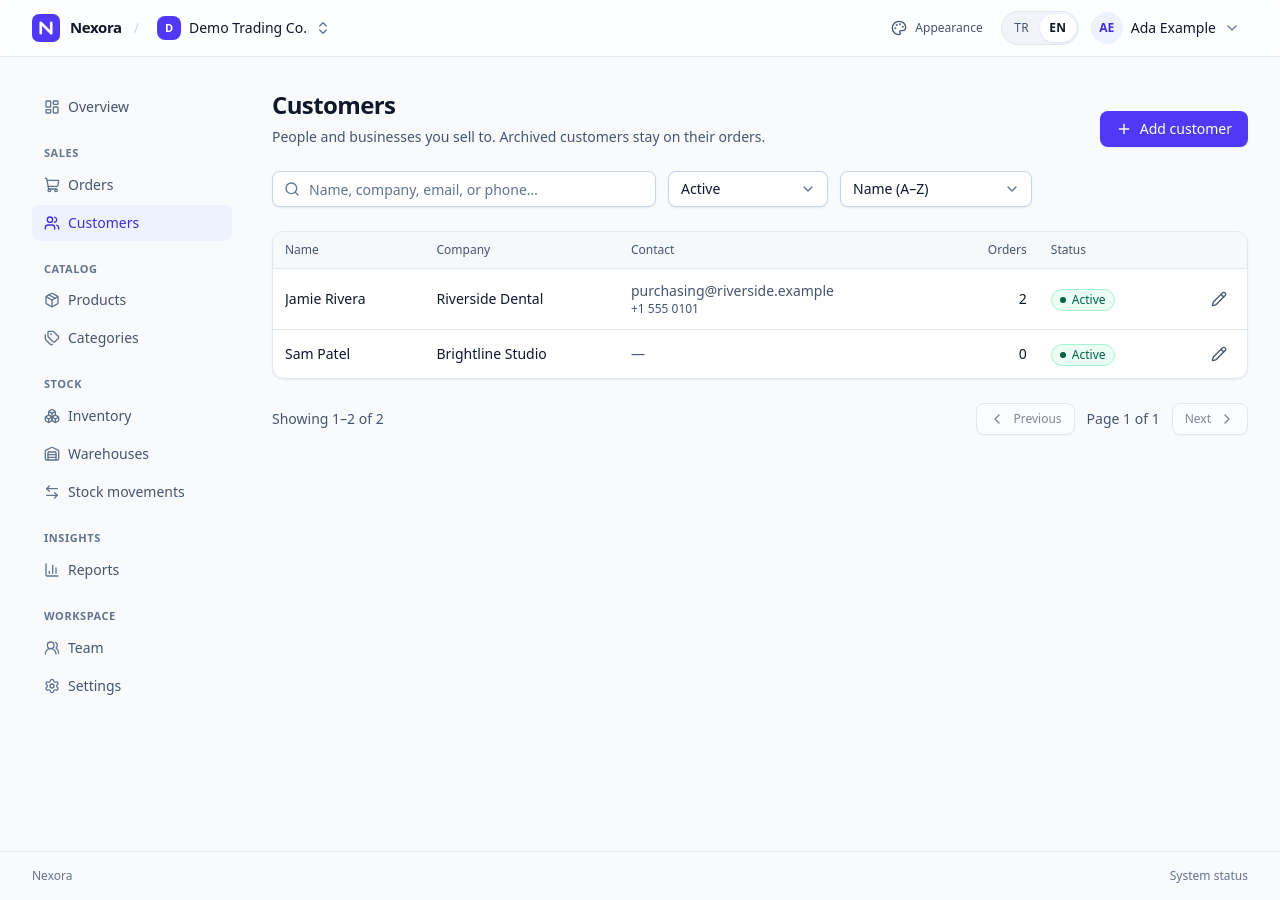
CustomersPage › edits only the changed fields
This screenshot has width=1280, height=900.
Expected: the heading "Customers" is shown, [272,88,395,121]
Click the button named "Edit Jamie Rivera" at (1219, 299), box [1203,283,1235,315]
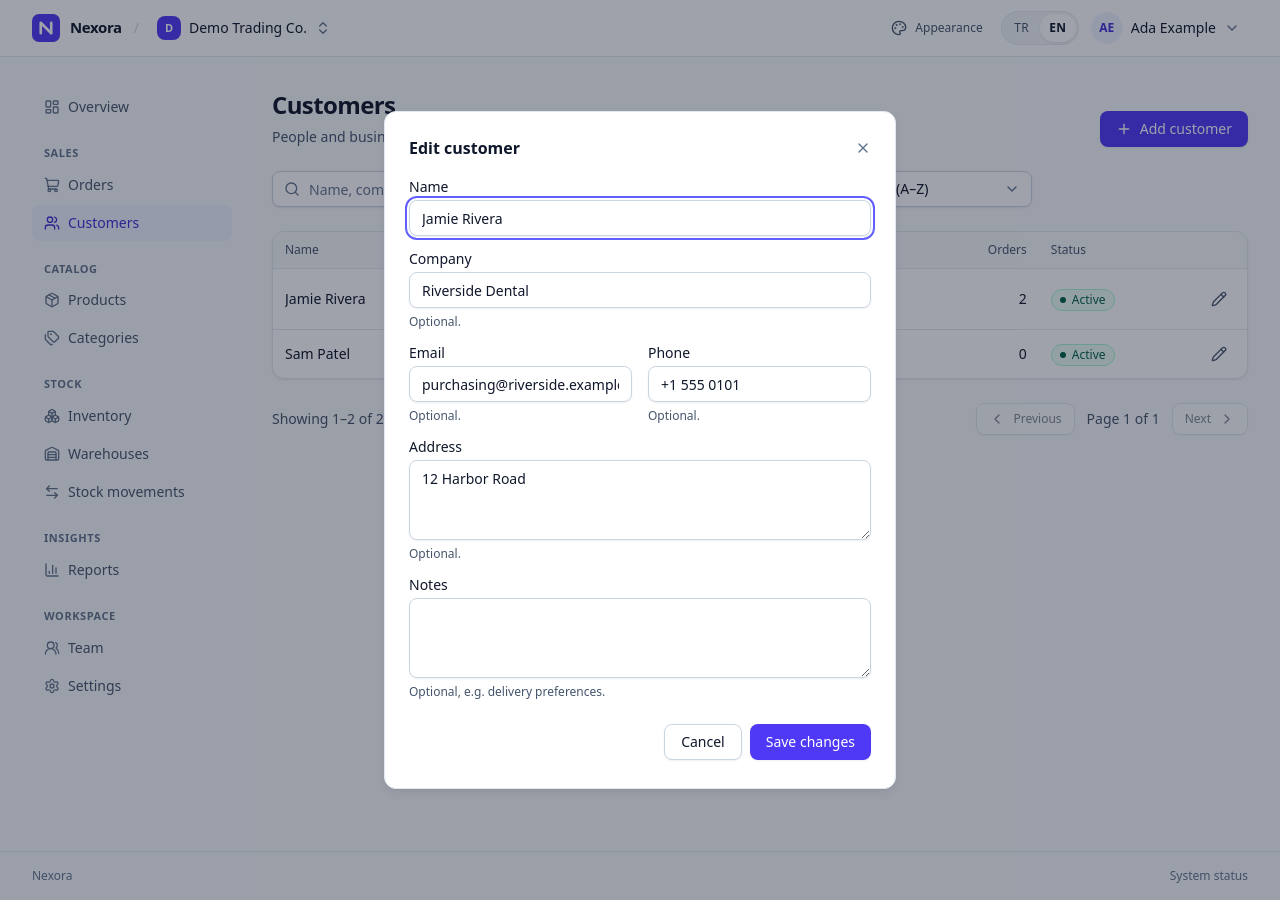
Replace the text in the field labelled "Phone" with "+1 555 0199" at (760, 384), box [648,366,871,402]
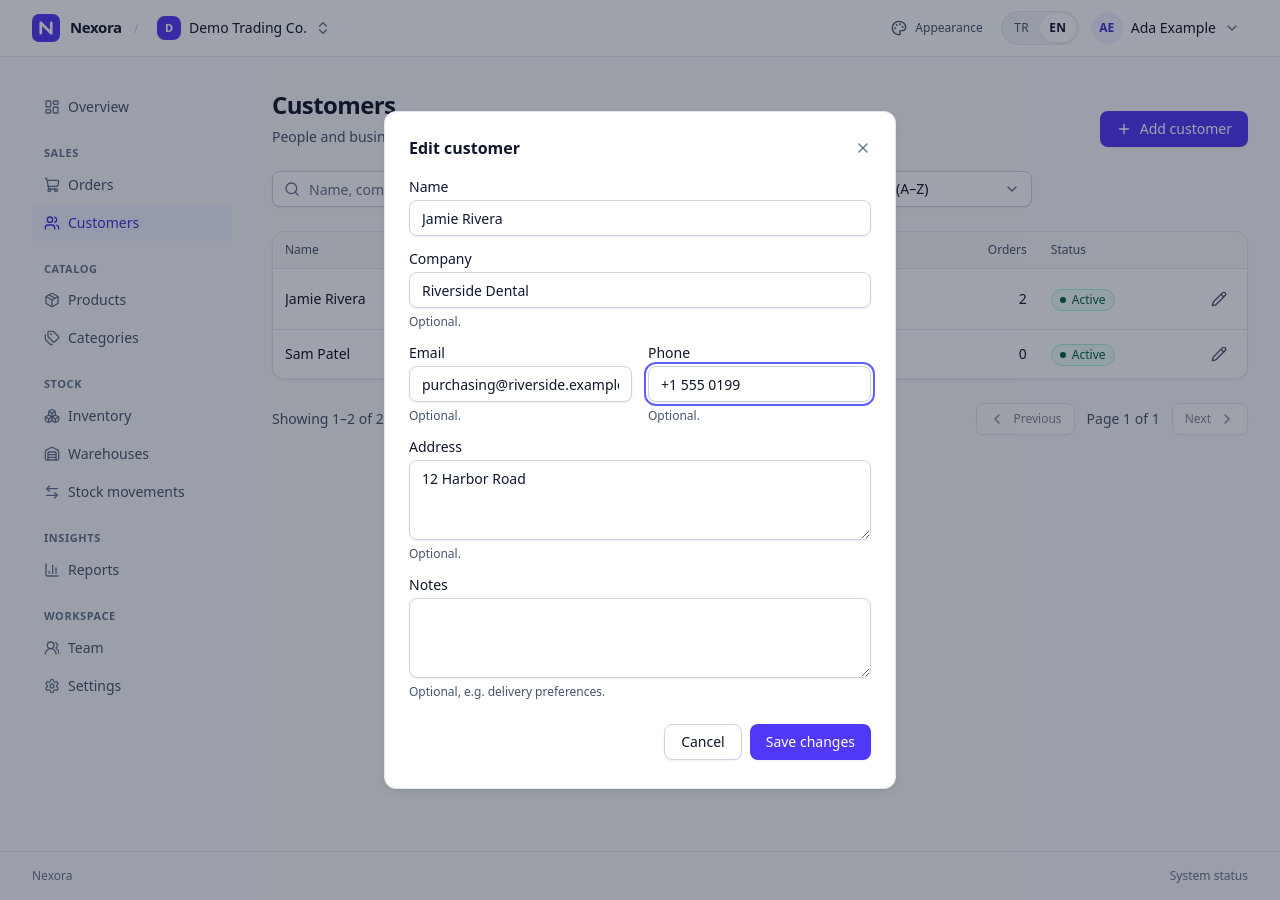
Click the button "Save changes" at (810, 742), box [750,724,871,760]
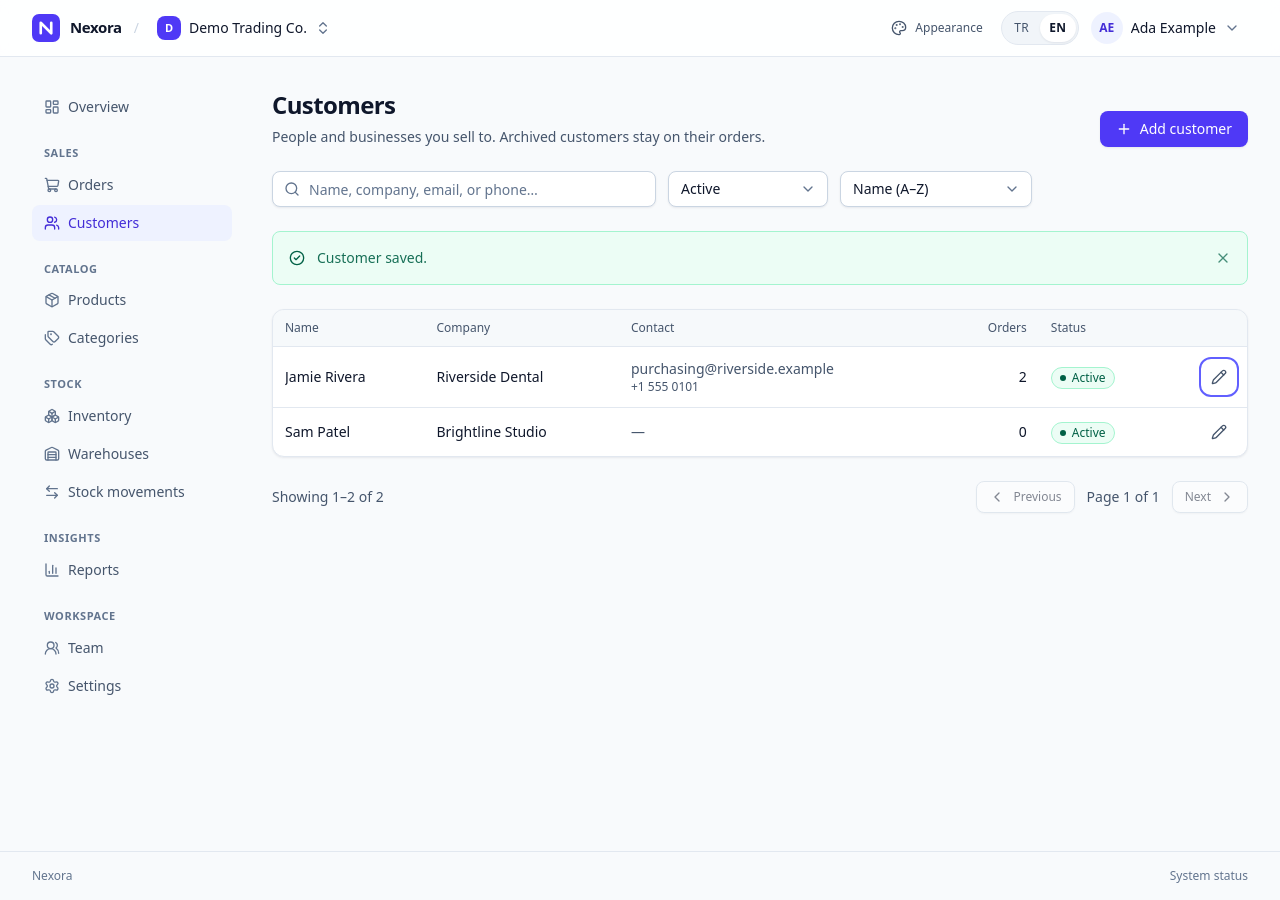
Now the text "Customer saved." is shown, box [317,248,427,267]
